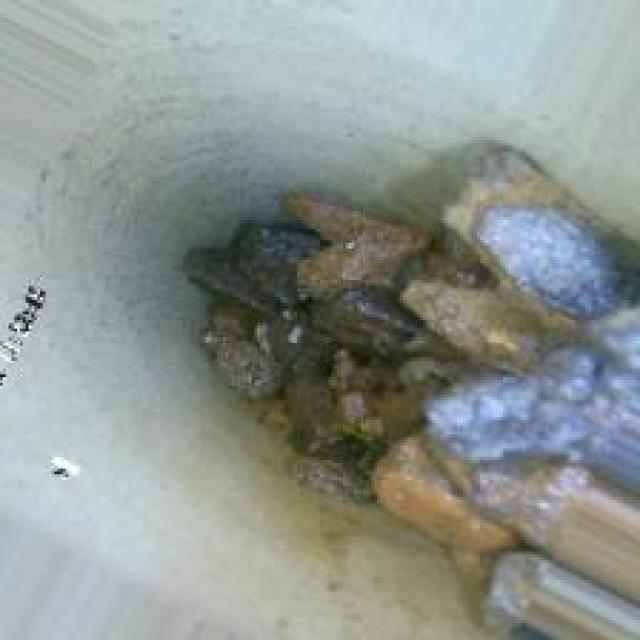stone: (177, 171, 629, 620)
